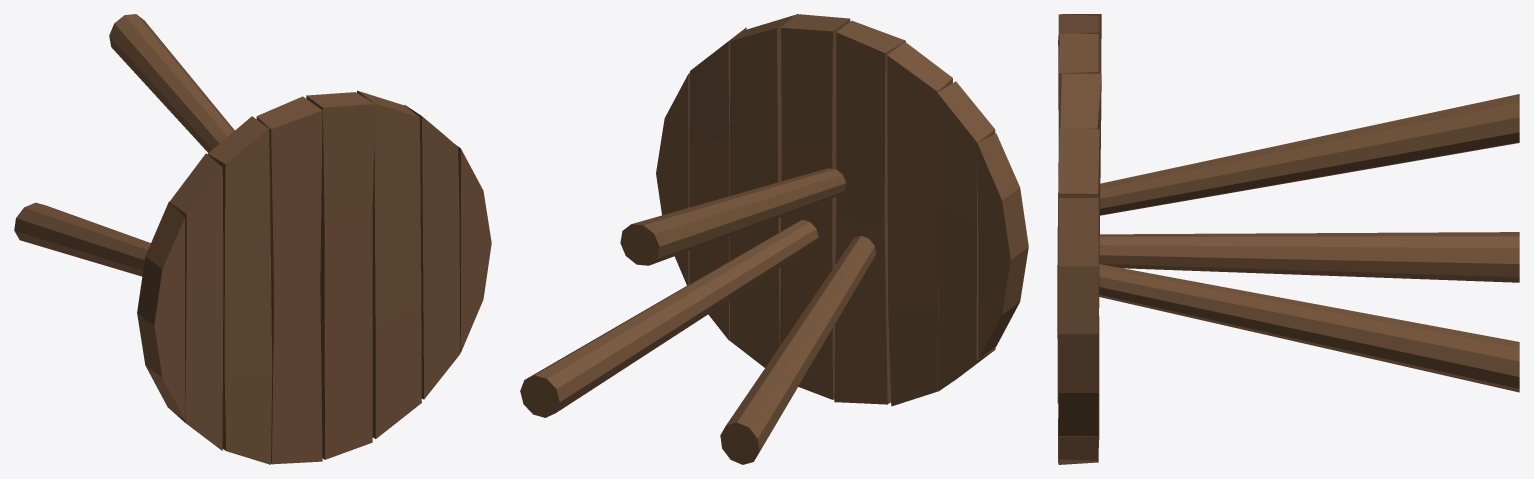
The model's file is Table_03.fbx.
3 renders of one model, left to right at view 1: azimuth 30°, elevation 25°; view 2: azimuth 150°, elevation 25°; view 3: azimuth 270°, elevation 25°, orthographic. The views are drawn at different scales.
Visible parts, largest first — view 1: Table_3.0_LOW.002; view 2: Table_3.0_LOW.002; view 3: Table_3.0_LOW.002.
Part boxes in pixels (box(x1,y1,x2,y2)): Table_3.0_LOW.002: box(14, 14, 491, 464); Table_3.0_LOW.002: box(520, 14, 1028, 464); Table_3.0_LOW.002: box(1057, 14, 1519, 464).
Size of the model in its own units: 68.7 by 68.73 by 70.06.
